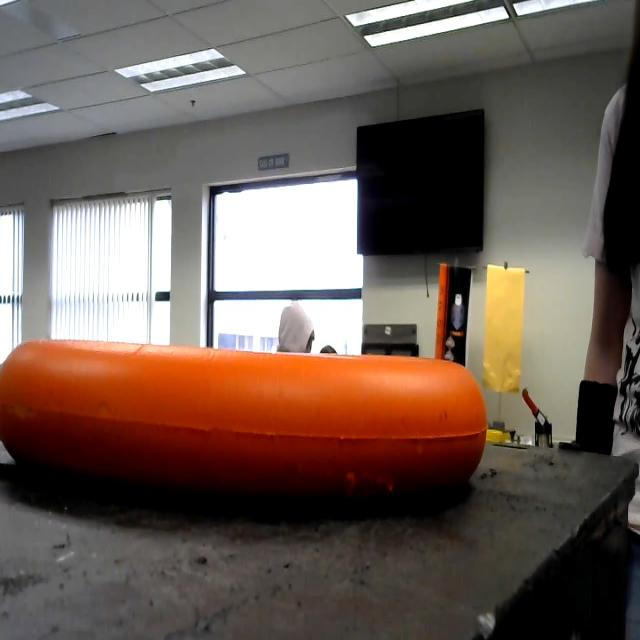note: (0, 314, 503, 549)
